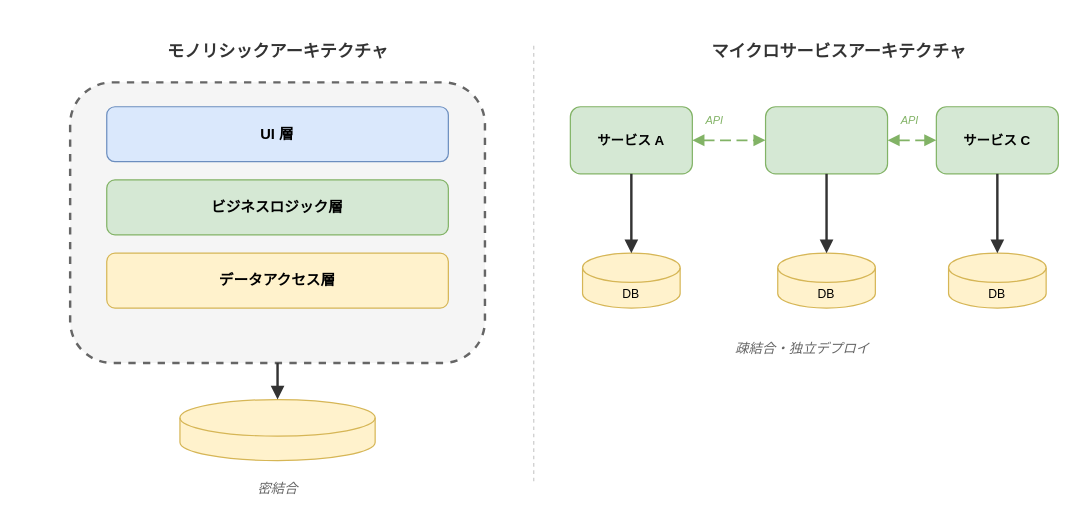
Some shapes in this 1091 by 529 pixel diagram are drawn without their labels. The centre of each missing label's shape, as x and y in pixels:
"サービス B" goes at point (826, 140).
"共有データベース" goes at point (277, 429).
